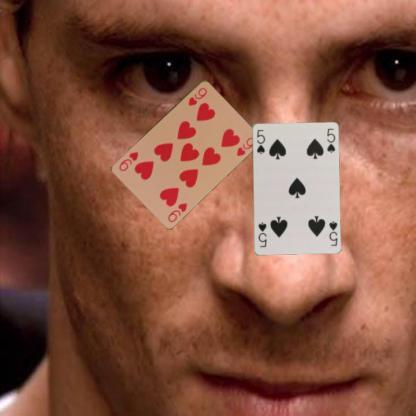5s: (254, 127, 266, 156), (326, 218, 338, 247)
9h: (185, 84, 208, 107), (166, 200, 188, 223)
